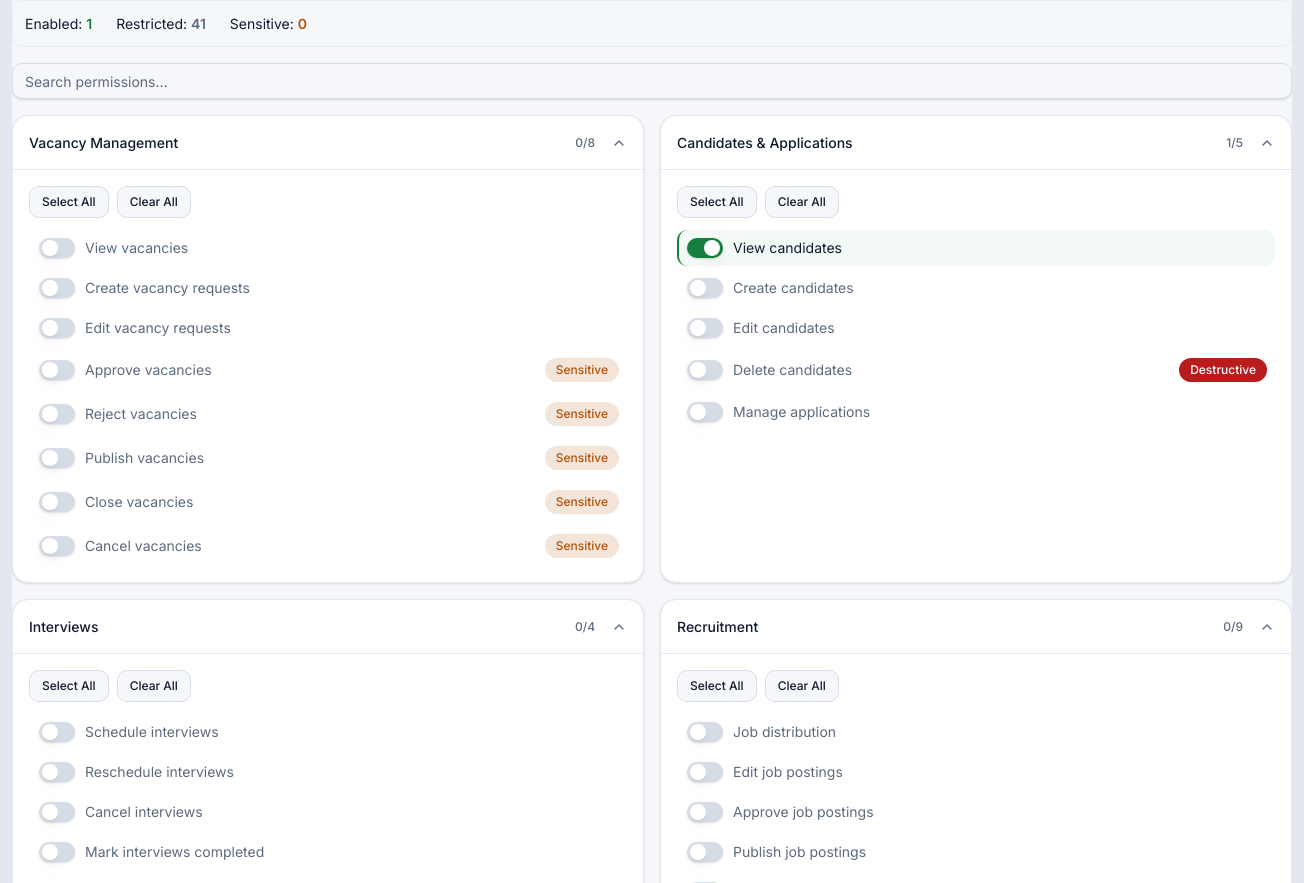
Scenario: PermissionCategoryCards › Select All fills a group and Clear All empties it, without touching other groups
Click the 1st button "Select All" at (69, 202), box left=29, top=186, right=109, bottom=218
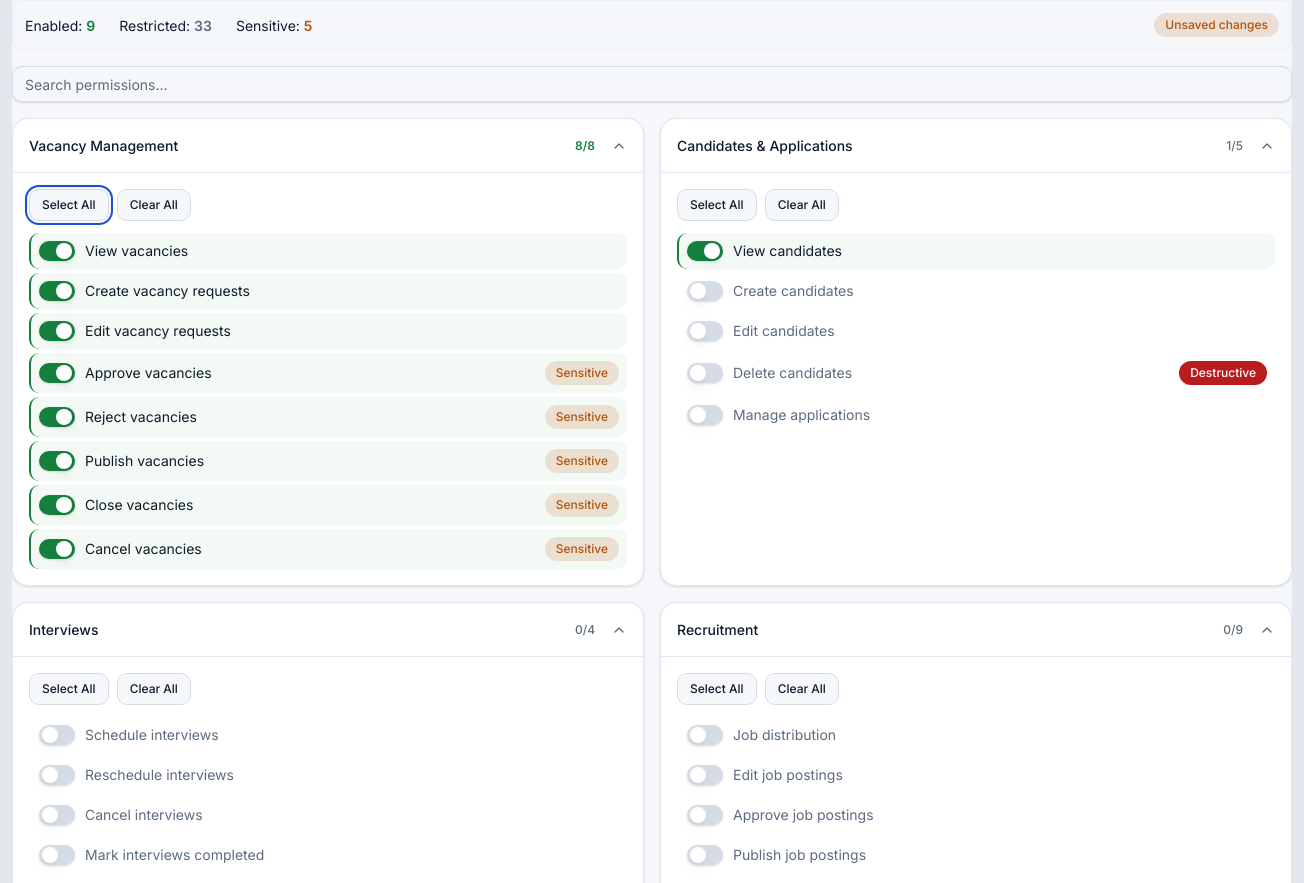
Expected: the switch named "View candidates" next to "View candidates" is checked, left=687, top=241, right=723, bottom=261
Expected: the text "8/8" is shown, left=575, top=136, right=595, bottom=154
Click the 1st button "Clear All" at (154, 205), box left=117, top=189, right=191, bottom=221
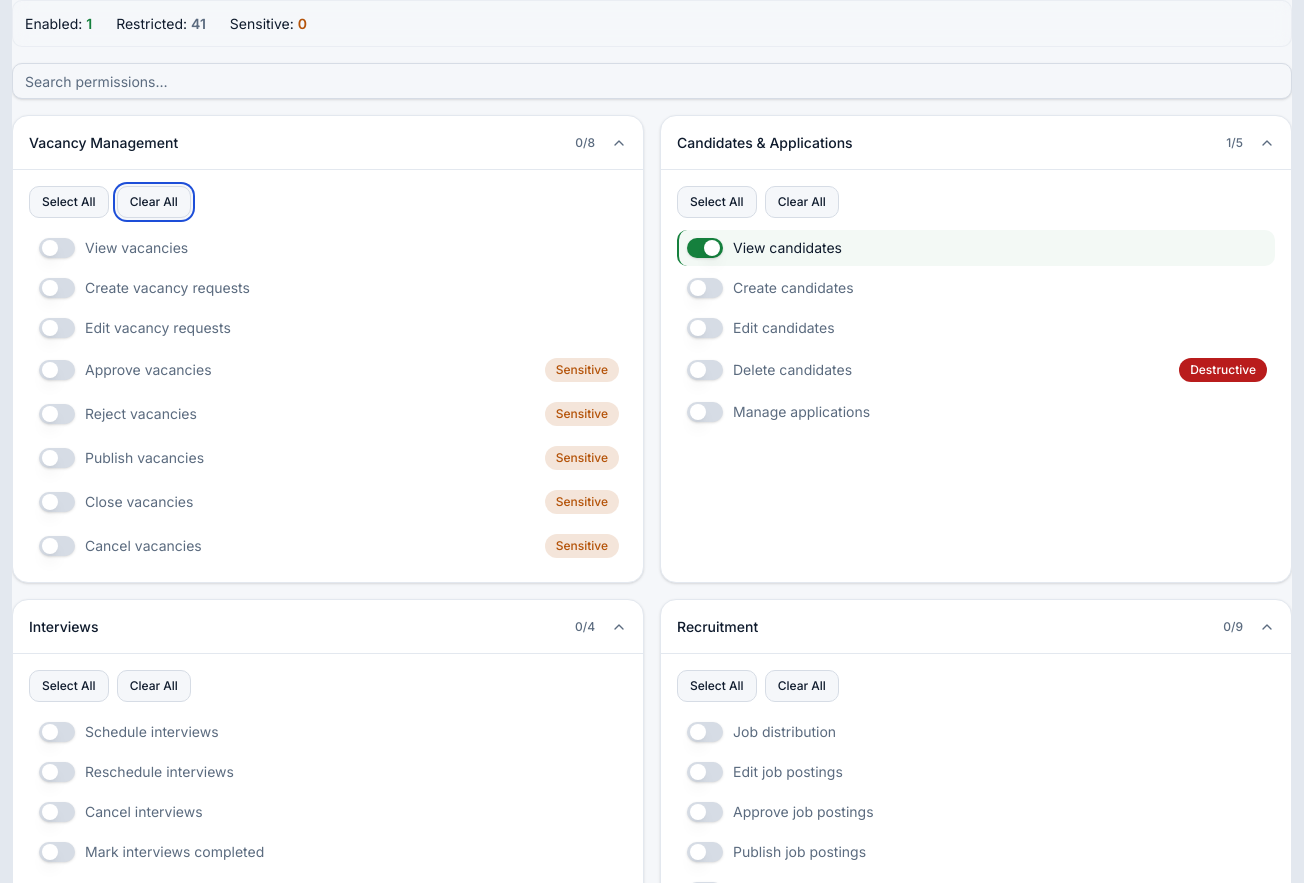
Expected: the switch named "View candidates" next to "View candidates" is checked, left=687, top=238, right=723, bottom=258
Expected: the text "0/8" is shown, left=575, top=134, right=595, bottom=152
